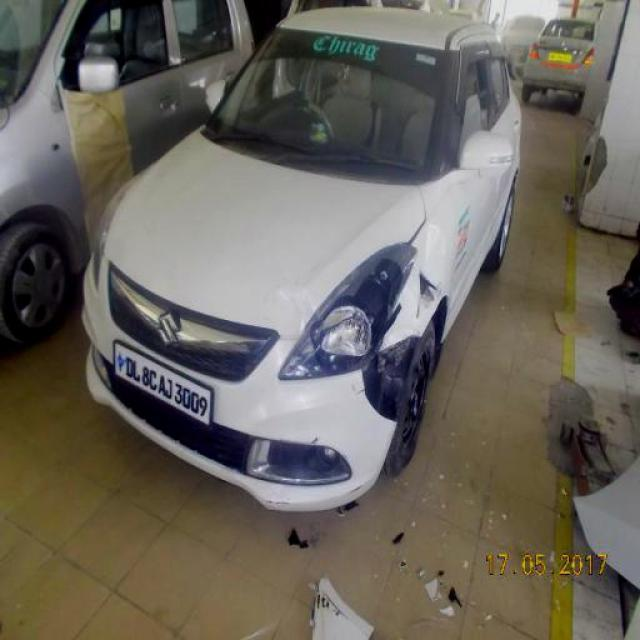car damage: (361, 332, 423, 428), (416, 269, 443, 320)
